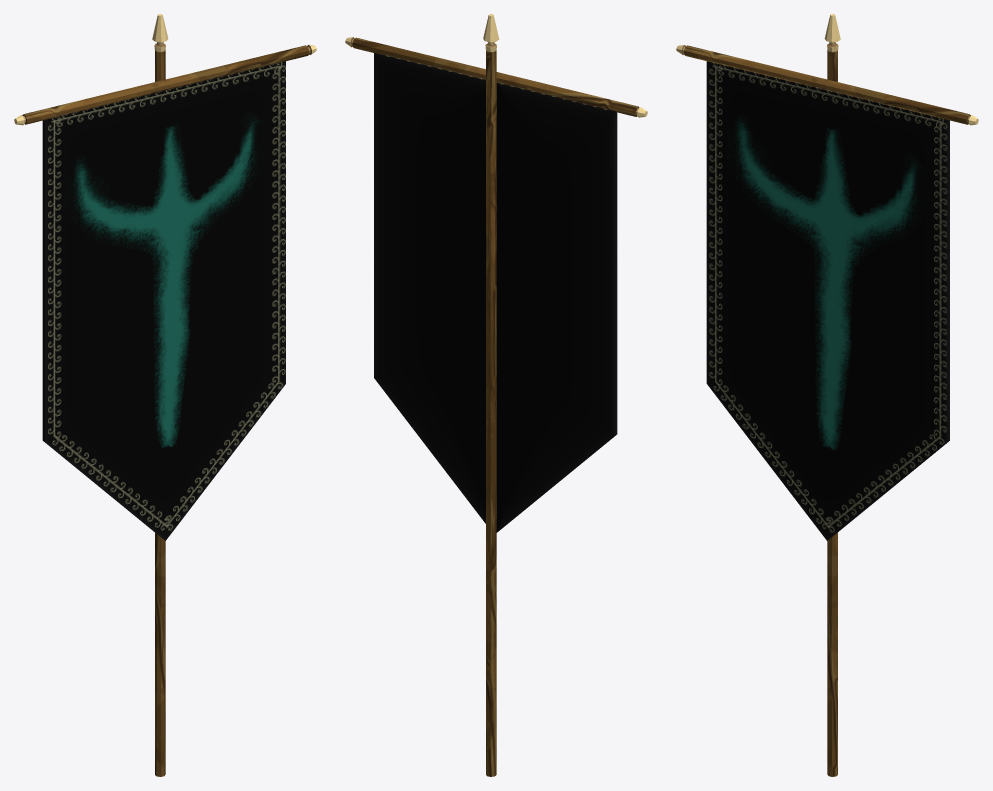
File: SingleBanner.fbx
3 renders of one model, left to right at view 1: azimuth 30°, elevation 25°; view 2: azimuth 150°, elevation 25°; view 3: azimuth 330°, elevation 25°, orthographic.
Visible parts, largest first — view 1: SingleBanner; view 2: SingleBanner; view 3: SingleBanner.
Part boxes in pixels (box(x1,y1,x2,y2)): SingleBanner: box(14, 14, 316, 776); SingleBanner: box(345, 14, 647, 776); SingleBanner: box(676, 14, 978, 776).
Size of the model in its own units: 102 by 248 by 6.84.
